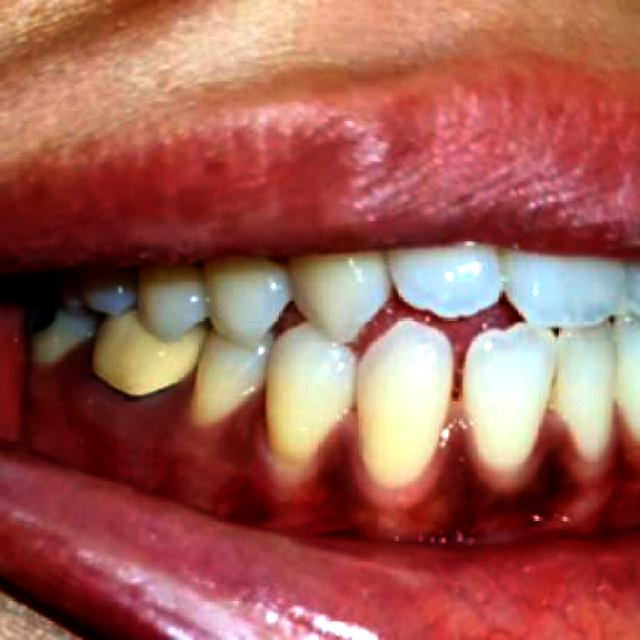Plaque: (23, 331, 639, 543)
